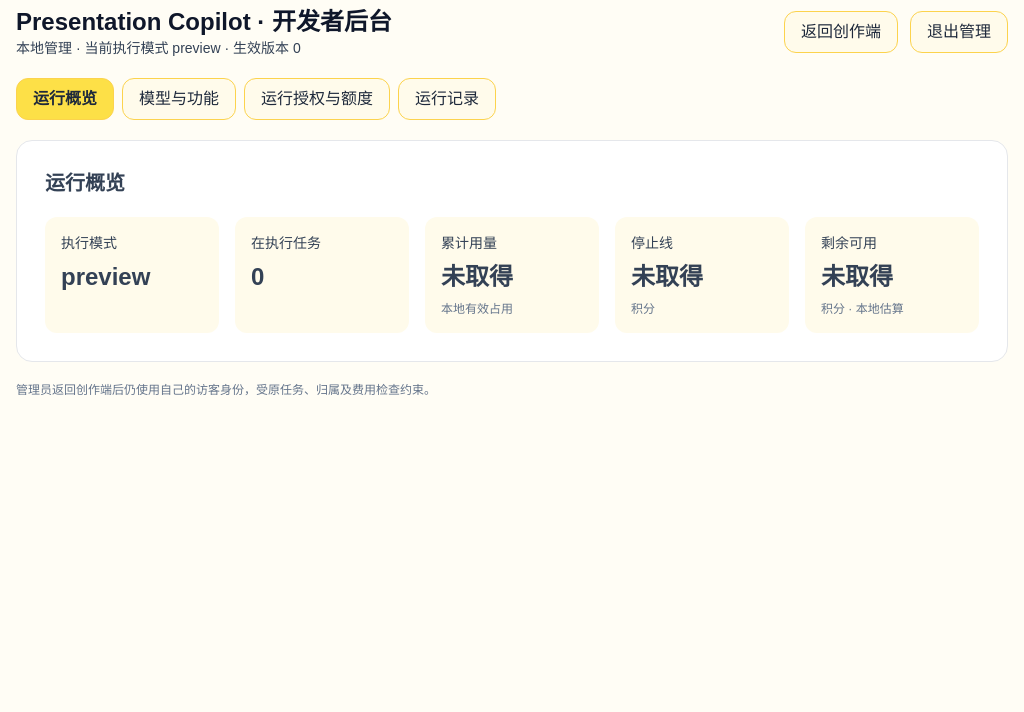
Test: saving a draft never invokes apply and confirmation is required separately
Later steps or results of the test are not shown.
Expected: the element named "运行概览指标" is shown, left=45, top=217, right=979, bottom=333
Click the button "运行授权与额度".
click(317, 99)  # box left=244, top=78, right=390, bottom=120
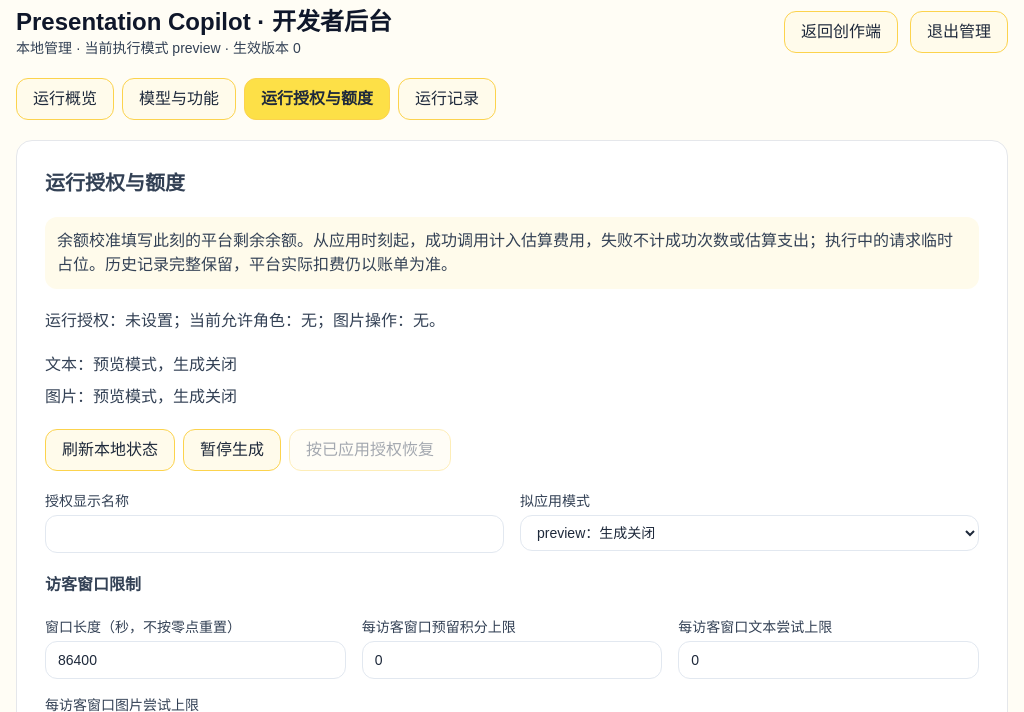
Type "隔离草稿" into the field labelled "授权显示名称".
click(274, 534); type("隔离草稿")  # box left=45, top=515, right=504, bottom=553
(page scrolled)
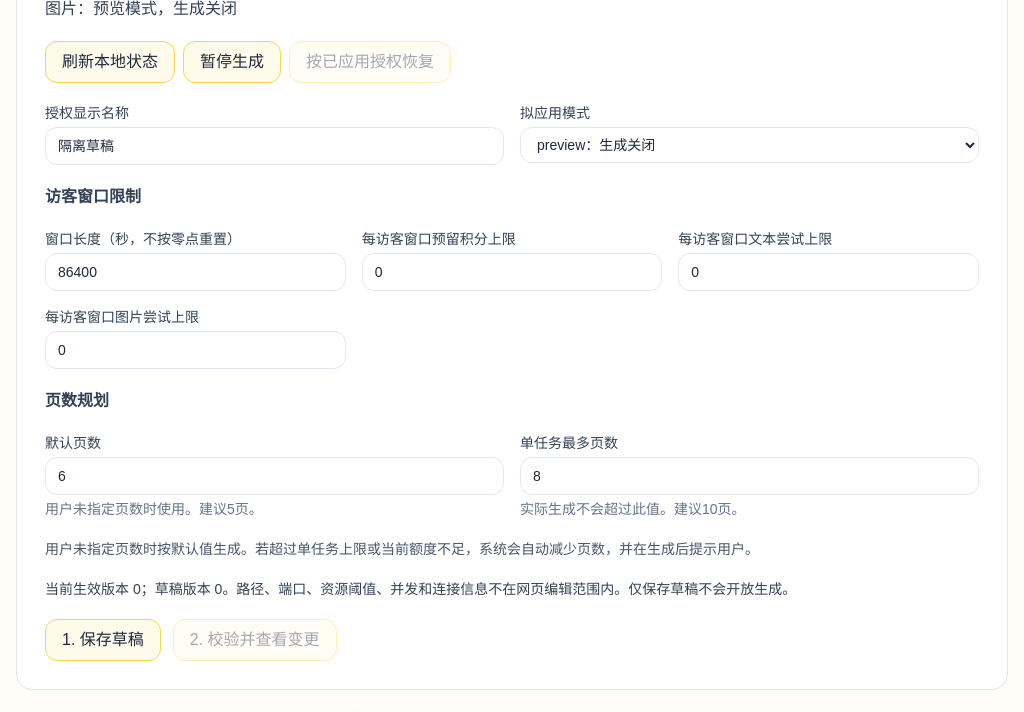
Click the button "1. 保存草稿".
click(103, 640)  # box left=45, top=619, right=161, bottom=661
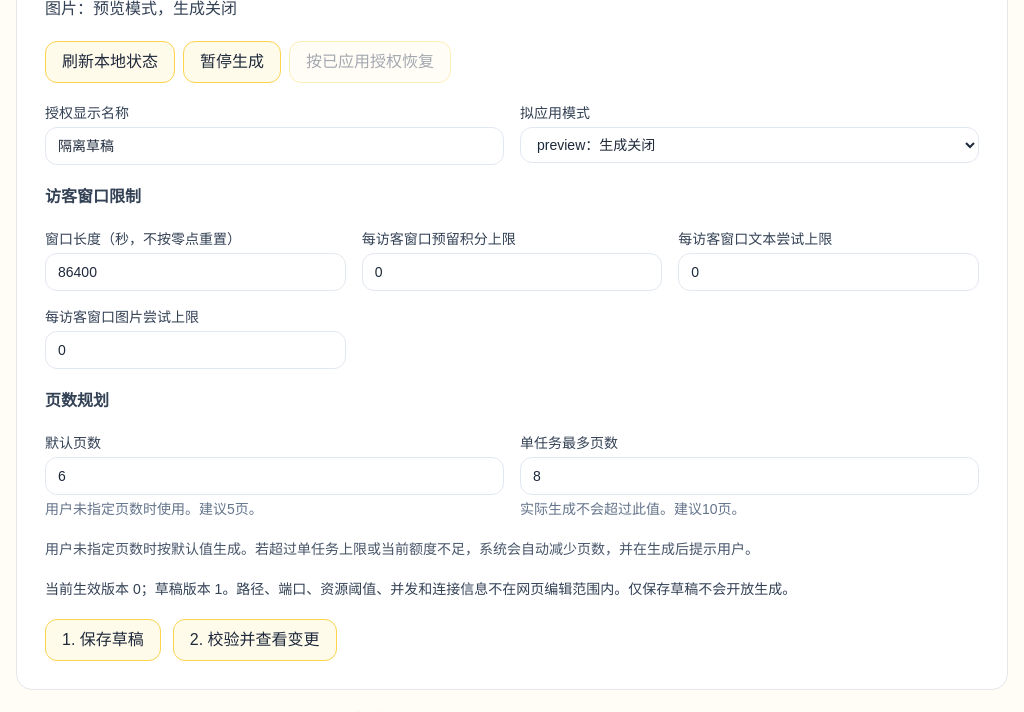
Click the button "2. 校验并查看变更".
click(255, 640)  # box left=173, top=619, right=337, bottom=661
(page scrolled)
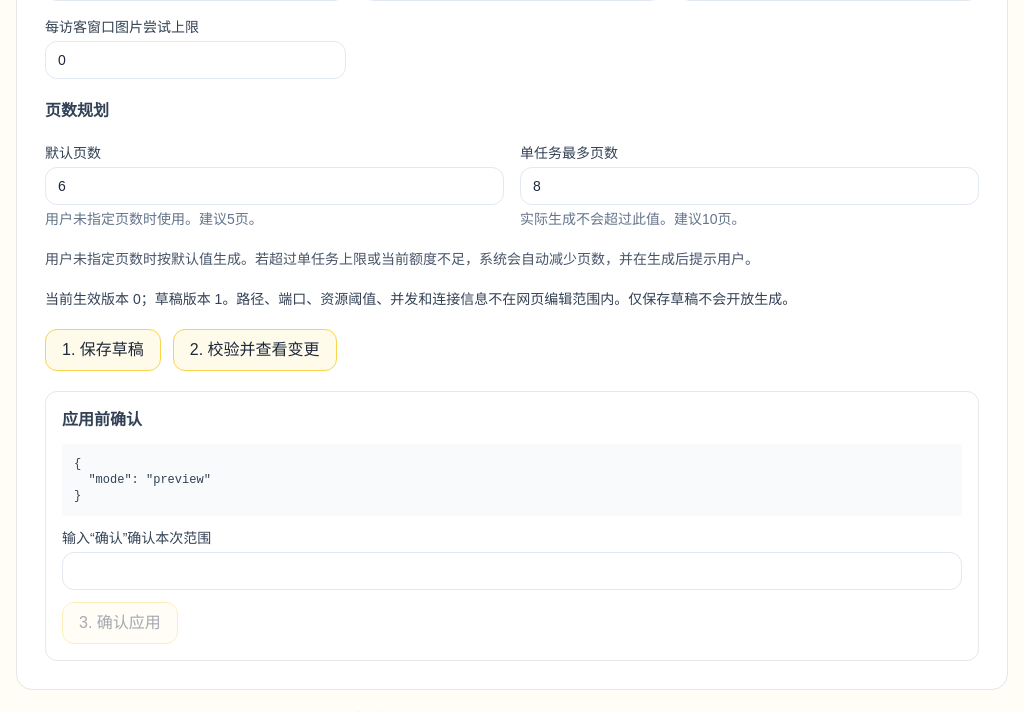
Expected: the heading "应用前确认" is shown, left=62, top=411, right=142, bottom=428
Expected: the button "3. 确认应用" is disabled, left=62, top=602, right=178, bottom=644
